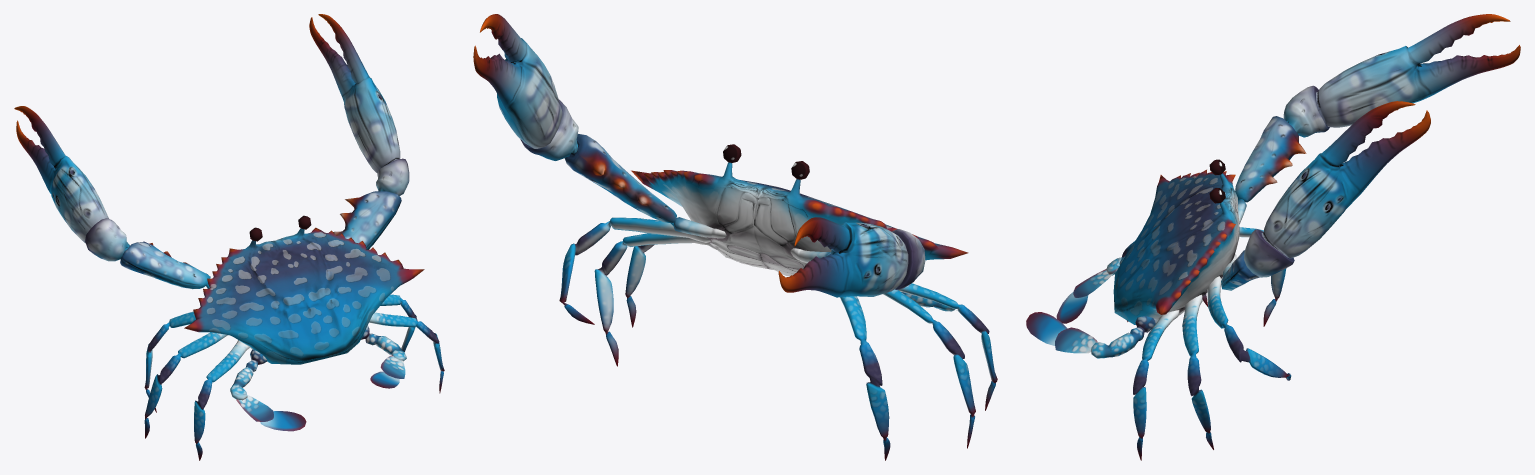
The model's file is Crab_Low_Action Post.fbx.
The picture shows the model from 3 angles, left to right: view 1: azimuth 30°, elevation 25°; view 2: azimuth 150°, elevation 25°; view 3: azimuth 270°, elevation 25°; orthographic projection. The views are drawn at different scales.
Visible parts, largest first — view 1: Body_Low, Claw_R1, Claw_L1, Paddle_Fins_L1, Paddle_Fins_R1, Walking_Leg_L3, Walking_Leg_L2, Walking_Leg_R3, Walking_Leg_L1, Walking_Leg_R2; view 2: Body_Low, Claw_R1, Claw_L1, Walking_Leg_R1, Walking_Leg_L1, Walking_Leg_R2, Walking_Leg_L2, Walking_Leg_L3, Walking_Leg_R3; view 3: Claw_L1, Body_Low, Claw_R1, Paddle_Fins_R1, Walking_Leg_R2, Walking_Leg_R1, Walking_Leg_R3, Paddle_Fins_L1, Walking_Leg_L1.
Part boxes in pixels (box(x1,y1,x2,y2)): Body_Low: box(184, 215, 424, 364); Claw_R1: box(309, 14, 409, 249); Claw_L1: box(14, 106, 210, 289); Paddle_Fins_L1: box(230, 349, 306, 431); Paddle_Fins_R1: box(361, 325, 406, 388); Walking_Leg_L3: box(194, 340, 249, 460); Walking_Leg_L2: box(144, 332, 227, 438); Walking_Leg_R3: box(369, 312, 444, 393); Walking_Leg_L1: box(144, 311, 195, 412); Walking_Leg_R2: box(380, 294, 417, 351); Body_Low: box(631, 144, 968, 276); Claw_R1: box(473, 14, 726, 238); Claw_L1: box(778, 217, 925, 297); Walking_Leg_R1: box(559, 217, 710, 324); Walking_Leg_L1: box(840, 296, 890, 460); Walking_Leg_R2: box(594, 233, 711, 366); Walking_Leg_L2: box(882, 289, 975, 448); Walking_Leg_L3: box(898, 283, 997, 410); Walking_Leg_R3: box(625, 244, 715, 327); Claw_L1: box(1235, 14, 1520, 224); Body_Low: box(1113, 159, 1239, 324); Claw_R1: box(1221, 101, 1430, 290); Paddle_Fins_R1: box(1026, 312, 1157, 358); Walking_Leg_R2: box(1182, 294, 1213, 449); Walking_Leg_R1: box(1207, 276, 1291, 380); Walking_Leg_R3: box(1133, 310, 1179, 460); Paddle_Fins_L1: box(1056, 256, 1124, 323); Walking_Leg_L1: box(1239, 227, 1286, 326).
Bounding box in the file's own units: 33.84 × 32.69 × 40.54.
